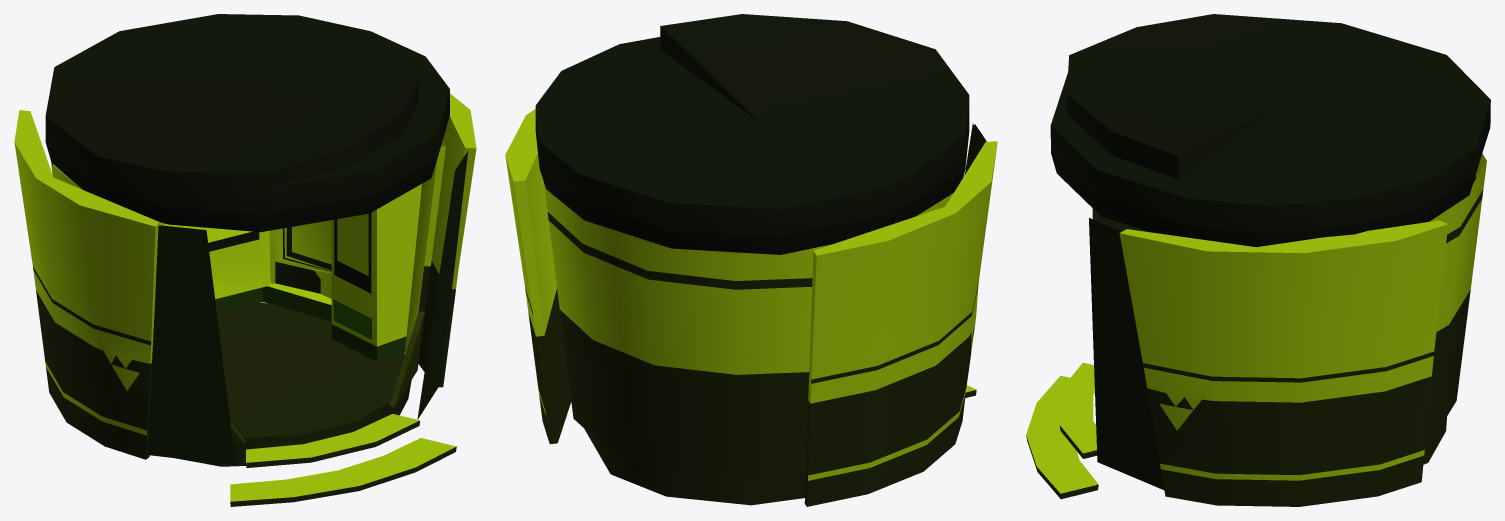
File: W_O_Mobilestore_002_L3.fbx
3 renders of one model, left to right at view 1: azimuth 30°, elevation 25°; view 2: azimuth 150°, elevation 25°; view 3: azimuth 270°, elevation 25°, orthographic. The views are drawn at different scales.
Parts seen in each view (by area): view 1: W_O_Mobilestore_002_L3; view 2: W_O_Mobilestore_002_L3; view 3: W_O_Mobilestore_002_L3.
Part boxes in pixels (x1,y1,x2,y2): W_O_Mobilestore_002_L3: [14, 14, 476, 506]; W_O_Mobilestore_002_L3: [505, 14, 997, 506]; W_O_Mobilestore_002_L3: [1026, 14, 1490, 506].
Size of the model in its own units: 5.95 by 4.7 by 5.6.
